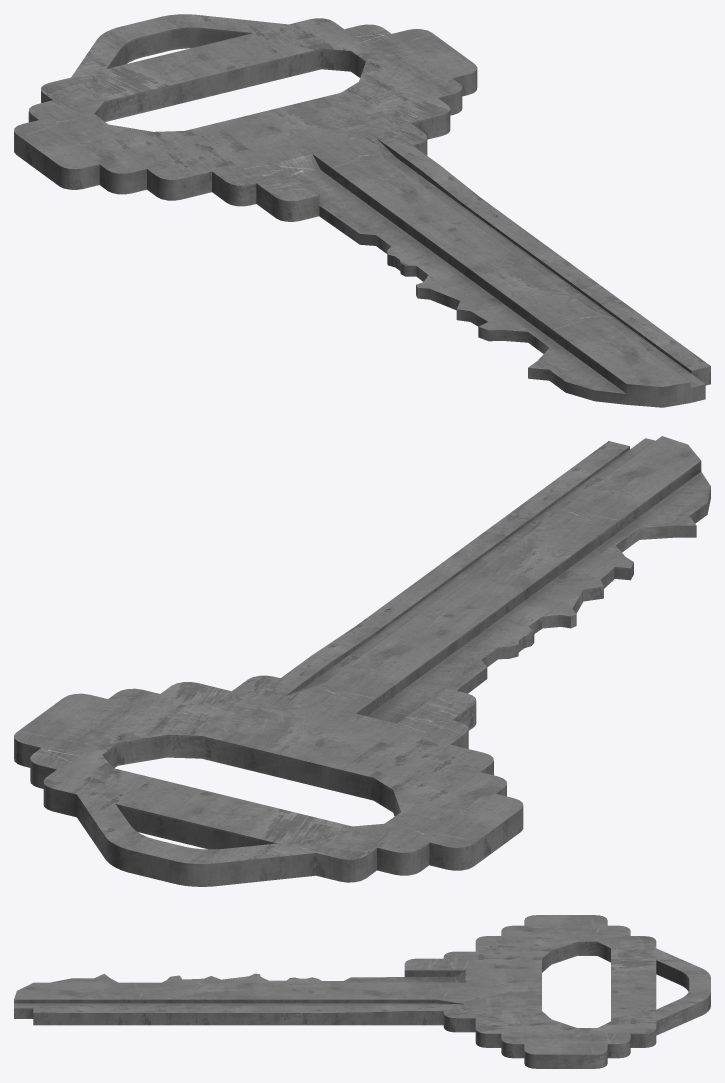
File: cute_key.glb
3 views of the same model, one above another, from view 1: azimuth 30°, elevation 25°; view 2: azimuth 150°, elevation 25°; view 3: azimuth 270°, elevation 25° (orthographic). The views are drawn at different scales.
Parts seen in each view (by area): view 1: Plane.001_0; view 2: Plane.001_0; view 3: Plane.001_0.
Boxes of the visible parts, left/top/right/bottom form: Plane.001_0: left=14, top=14, right=710, bottom=407; Plane.001_0: left=14, top=436, right=710, bottom=886; Plane.001_0: left=14, top=915, right=710, bottom=1068.
Size of the model in its own units: 2.1 by 0.1001 by 4.43.
1 material, 1 textured.
